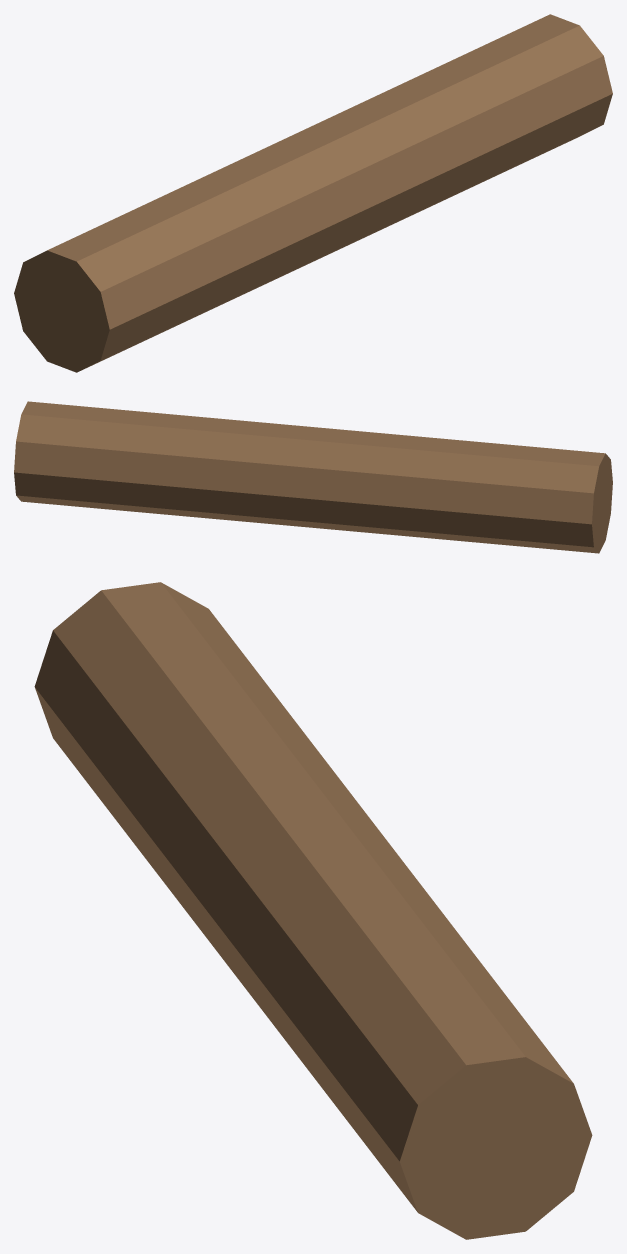
The model's file is z1_tronco_3_lev1.glb.
The picture shows the model from 3 angles, top to bottom: view 1: azimuth 30°, elevation 25°; view 2: azimuth 150°, elevation 25°; view 3: azimuth 270°, elevation 25°; orthographic projection. The views are drawn at different scales.
Parts seen in each view (by area): view 1: z1_tronco_3_lev1; view 2: z1_tronco_3_lev1; view 3: z1_tronco_3_lev1.
Boxes of the visible parts, x1,y1,x2,y2 form: z1_tronco_3_lev1: [14, 14, 612, 372]; z1_tronco_3_lev1: [14, 401, 612, 553]; z1_tronco_3_lev1: [34, 582, 592, 1239].
Size of the model in its own units: 2.81 by 0.4565 by 1.32.
